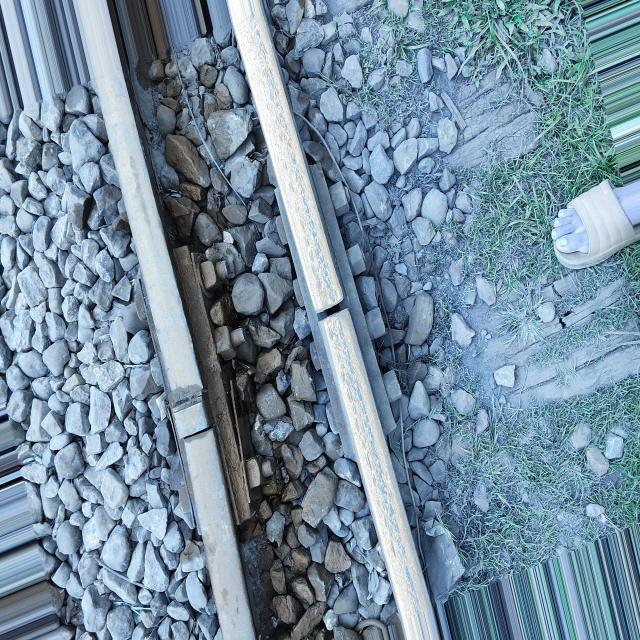Defective Joint: (127, 246, 254, 543)
Good Joint: (270, 164, 403, 447)
